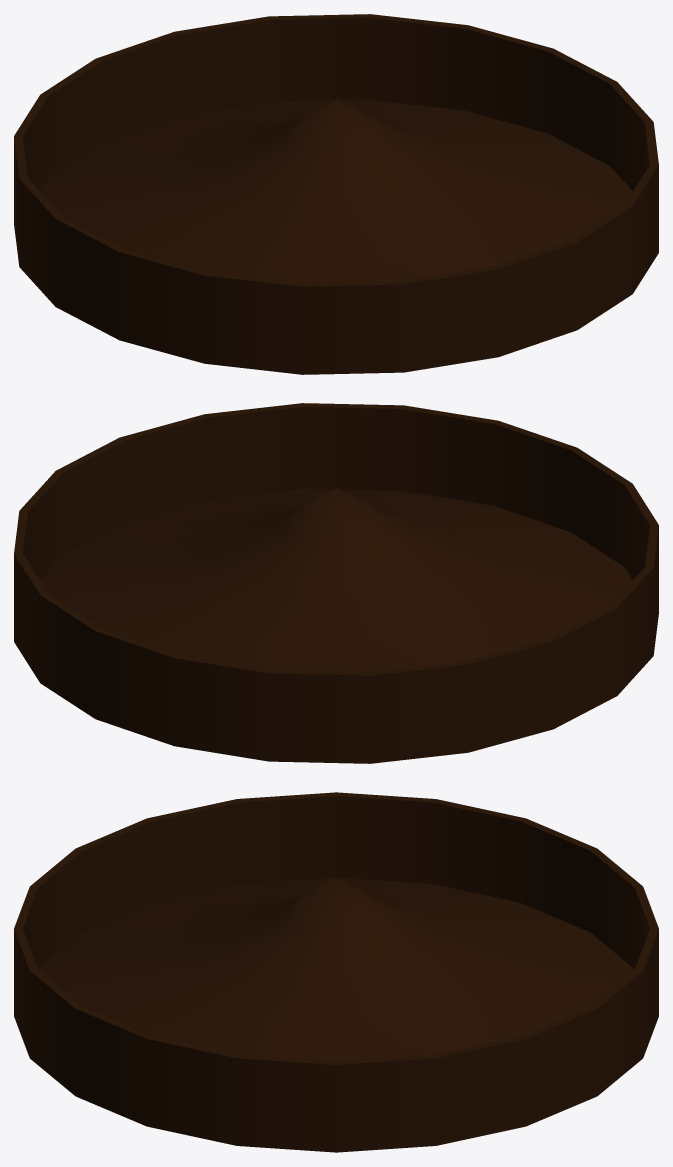
Rendered from MuJu_GuiZe.fbx.
3 views of the same model, one above another, from view 1: azimuth 30°, elevation 25°; view 2: azimuth 150°, elevation 25°; view 3: azimuth 270°, elevation 25° (orthographic).
Parts seen in each view (by area): view 1: MuJu_GuiZe; view 2: MuJu_GuiZe; view 3: MuJu_GuiZe.
Part boxes in pixels (box(x1,y1,x2,y2)): MuJu_GuiZe: box(14, 14, 658, 374); MuJu_GuiZe: box(14, 403, 658, 763); MuJu_GuiZe: box(14, 792, 658, 1152).
Bounding box in the file's own units: 39.88 × 9.46 × 39.88.
Materials: 1 (1 with a texture image).
